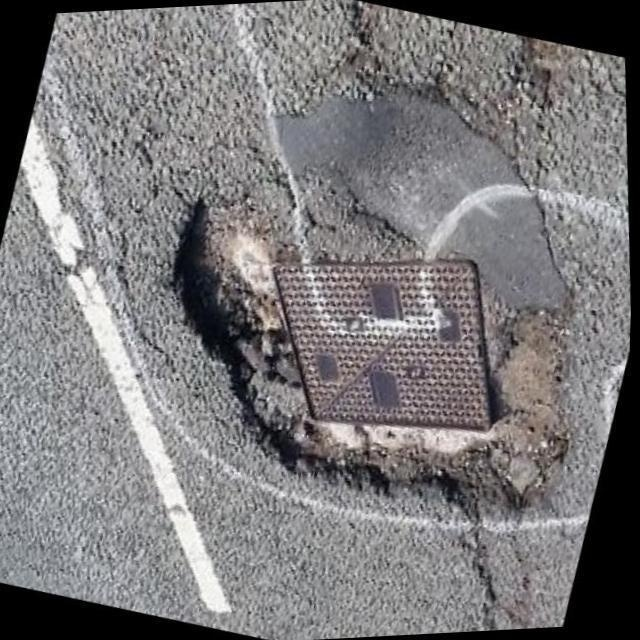pothole: (164, 169, 566, 540)
